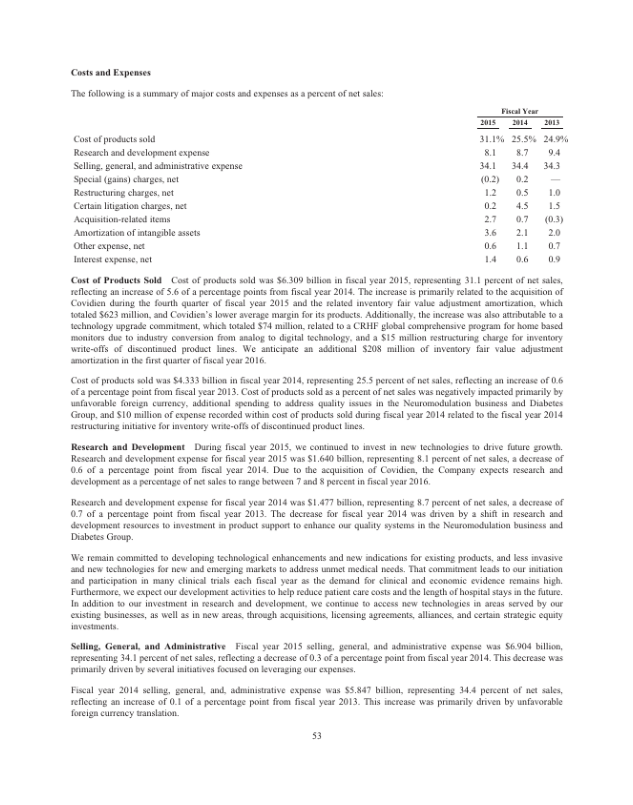table: (471, 103, 568, 268)
